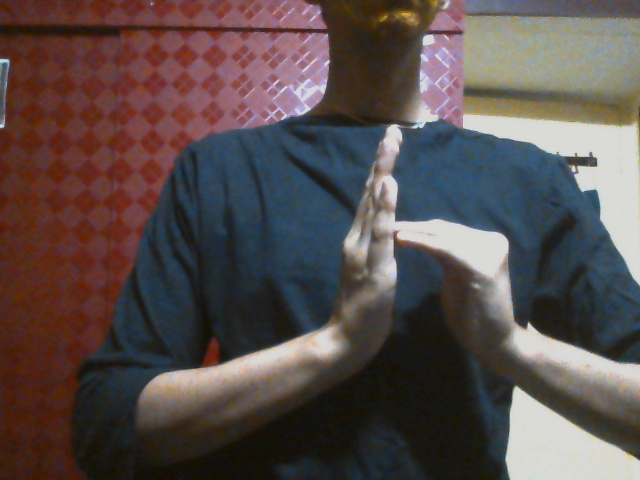Z: (322, 122, 526, 395)
